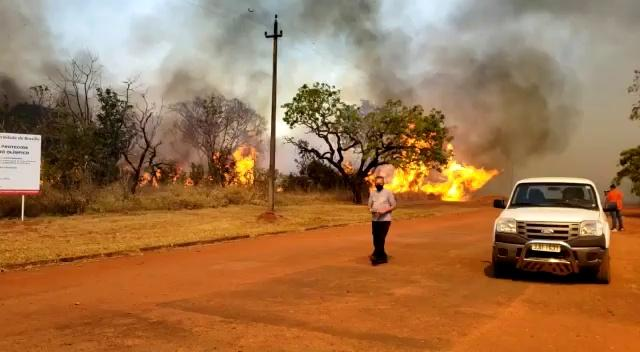fire: (396, 168, 481, 201), (233, 149, 257, 186)
smoke: (440, 56, 550, 145), (308, 2, 380, 35)
